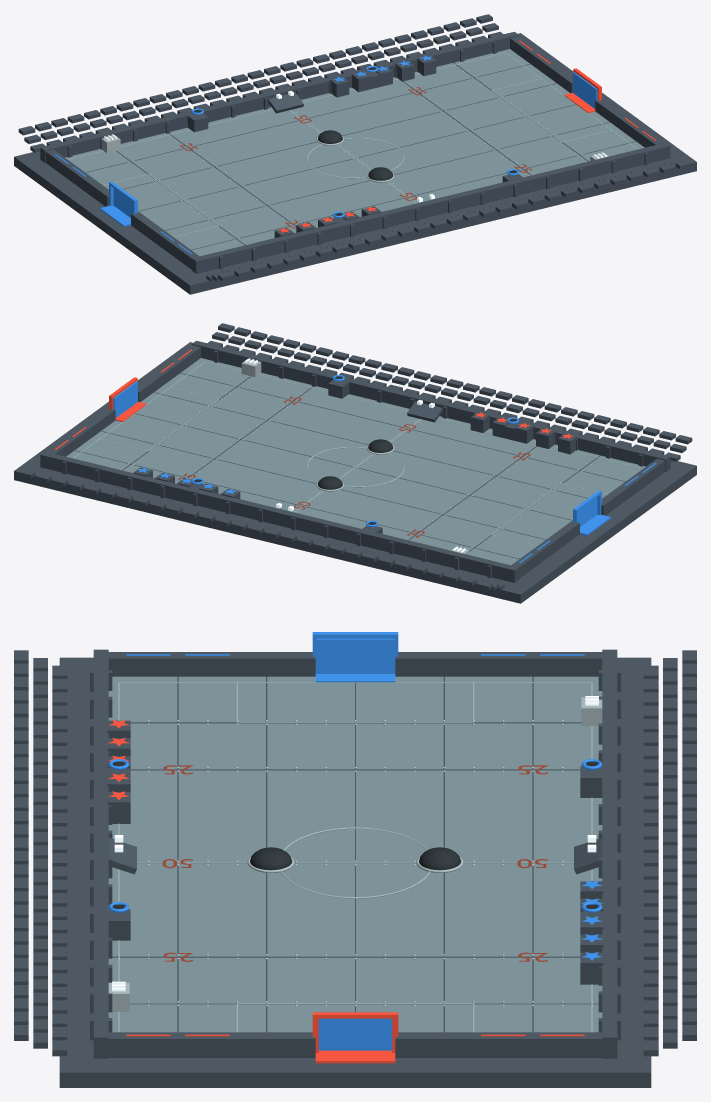
File: arena.glb
3 views of the same model, one above another, from view 1: azimuth 30°, elevation 25°; view 2: azimuth 150°, elevation 25°; view 3: azimuth 270°, elevation 25° (orthographic). The views are drawn at different scales.
Visible parts, largest first — view 1: Playing surface, Arena foundation, Impact barrier, Impact barrier.001, End wall.001, End wall, End wall.003, End wall.002, GoalShield_21, Floor panel seam.009, Floor panel seam.007, Floor panel seam.005 (+3 smaller); view 2: Playing surface, Arena foundation, Impact barrier.001, Impact barrier, End wall, End wall.001, End wall.002, End wall.003, GoalShield_21, Floor panel seam.005, Floor panel seam.007, Floor panel seam.008 (+3 smaller); view 3: Playing surface, Arena foundation, Impact barrier.001, Impact barrier, End wall.002, End wall.003, End wall, End wall.001, GoalShield_-21, GoalShield_21, Goal floor.001, Floor panel seam.003 (+9 smaller).
Boxes of the visible parts, <box> form: Playing surface: <box>65,49,644,256</box>; Arena foundation: <box>14,33,696,294</box>; Impact barrier: <box>192,142,670,273</box>; Impact barrier.001: <box>40,31,518,162</box>; End wall.001: <box>45,149,109,206</box>; End wall: <box>131,212,199,269</box>; End wall.003: <box>510,36,572,92</box>; End wall.002: <box>595,99,663,147</box>; GoalShield_21: <box>573,72,597,108</box>; Floor panel seam.009: <box>85,64,530,172</box>; Floor panel seam.007: <box>138,104,575,211</box>; Floor panel seam.005: <box>191,141,636,250</box>; Playing surface: <box>66,358,645,565</box>; Arena foundation: <box>14,342,696,603</box>; Impact barrier.001: <box>40,451,518,582</box>; Impact barrier: <box>192,340,670,471</box>; End wall: <box>601,458,665,515</box>; End wall.001: <box>511,521,579,578</box>; End wall.002: <box>138,345,200,401</box>; End wall.003: <box>47,408,115,456</box>; GoalShield_21: <box>113,381,137,417</box>; Floor panel seam.005: <box>180,373,625,481</box>; Floor panel seam.007: <box>135,413,572,520</box>; Floor panel seam.008: <box>101,431,545,539</box>; Playing surface: <box>108,676,602,1032</box>; Arena foundation: <box>59,657,651,1087</box>; Impact barrier.001: <box>602,649,617,1058</box>; Impact barrier: <box>93,649,108,1058</box>; End wall.002: <box>108,1032,315,1057</box>; End wall.003: <box>395,1032,602,1057</box>; End wall: <box>108,652,315,676</box>; End wall.001: <box>395,652,602,676</box>; GoalShield_-21: <box>316,638,394,673</box>; GoalShield_21: <box>318,1018,392,1050</box>; Goal floor.001: <box>315,1050,395,1063</box>; Floor panel seam.003: <box>112,956,580,957</box>.
Bounding box in the file's own units: 46.5 × 2.97 × 32.34.
